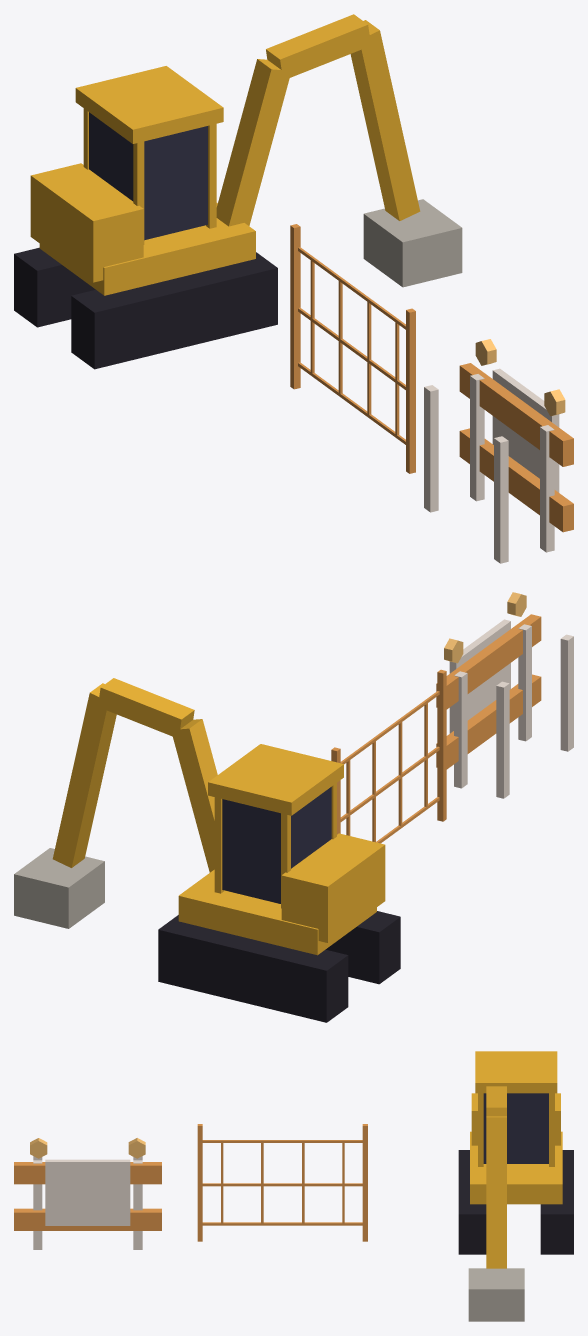
The picture shows the model from 3 angles, top to bottom: view 1: azimuth 30°, elevation 25°; view 2: azimuth 150°, elevation 25°; view 3: azimuth 270°, elevation 25°; orthographic projection. The views are drawn at different scales.
Visible parts, largest first — view 1: excavator, road_closed, mesh_fence; view 2: excavator, road_closed, mesh_fence; view 3: excavator, road_closed, mesh_fence.
Part boxes in pixels (x1,y1,x2,y2): excavator: (14, 14, 462, 369); road_closed: (424, 339, 573, 563); mesh_fence: (290, 224, 415, 473); excavator: (14, 678, 400, 1022); road_closed: (436, 592, 573, 798); mesh_fence: (331, 669, 446, 843); excavator: (458, 1051, 573, 1321); road_closed: (14, 1138, 161, 1249); mesh_fence: (197, 1124, 367, 1241).
Size of the model in its own units: 4.09 by 2.73 by 7.38.
